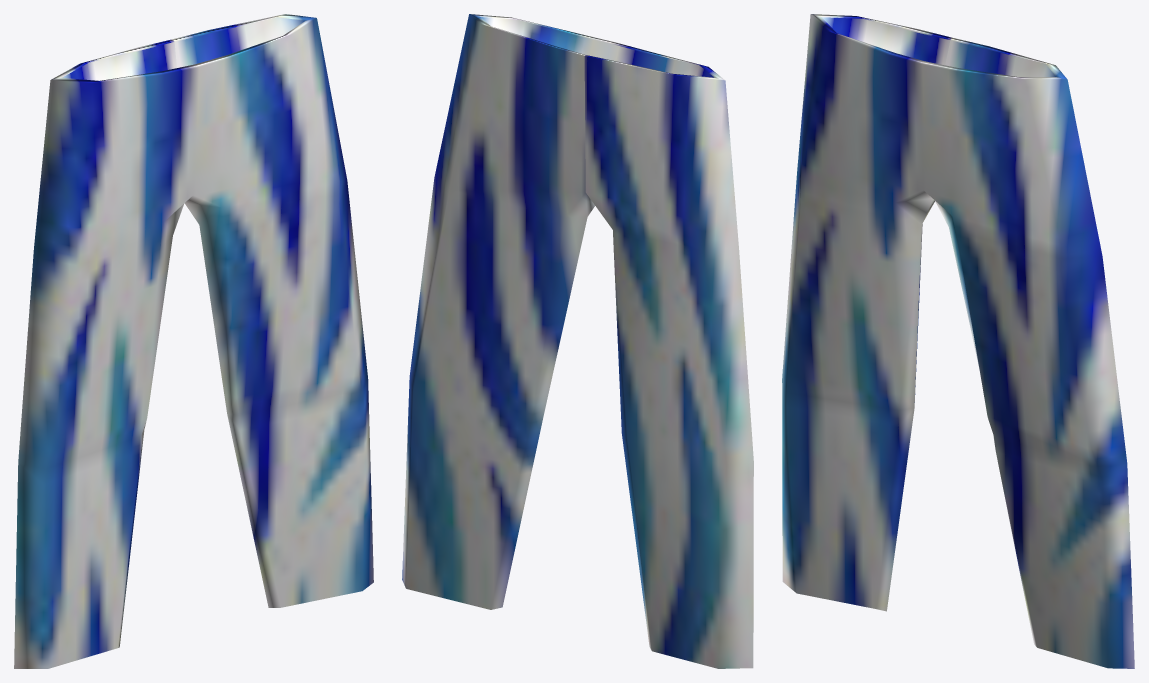
File: pent.fbx
3 views of the same model, side by side, from view 1: azimuth 30°, elevation 25°; view 2: azimuth 150°, elevation 25°; view 3: azimuth 330°, elevation 25° (orthographic).
Parts seen in each view (by area): view 1: Jean5_1; view 2: Jean5_1; view 3: Jean5_1.
Boxes of the visible parts, x1=… form: Jean5_1: x1=14, y1=14, x2=373, y2=668; Jean5_1: x1=402, y1=14, x2=753, y2=668; Jean5_1: x1=782, y1=14, x2=1134, y2=668.
Bounding box in the file's own units: 54.71 × 8.34 × 86.35.
